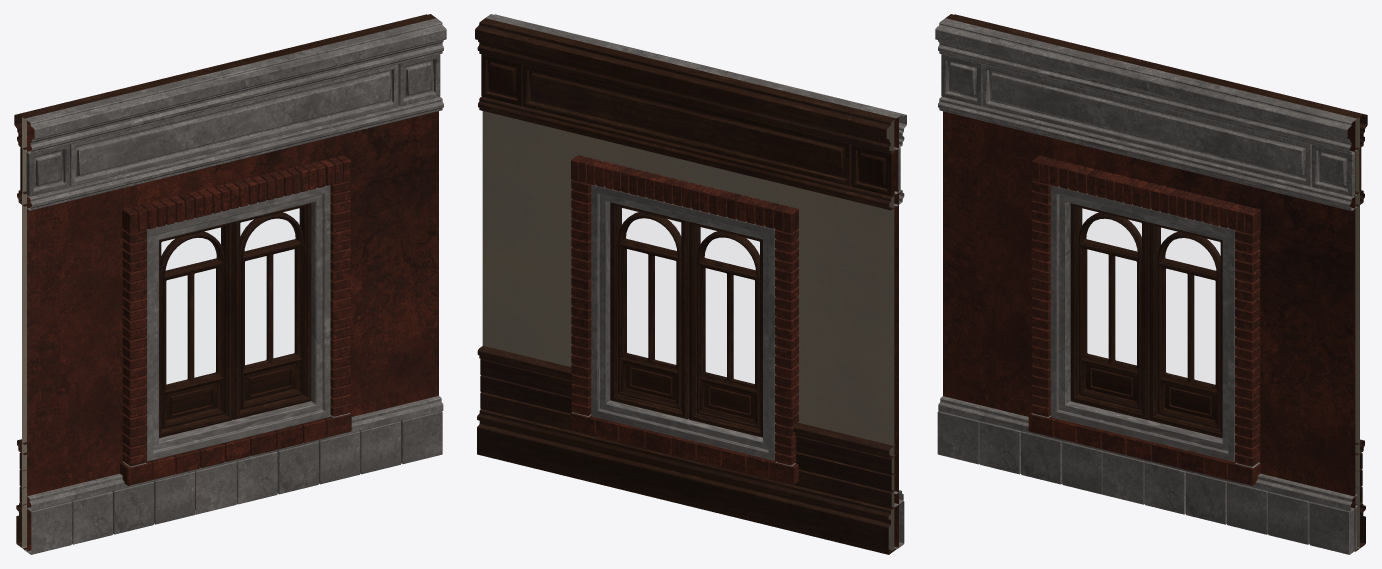
Rendered from SK6 WINDOW 2.fbx.
3 views of the same model, side by side, from view 1: azimuth 30°, elevation 25°; view 2: azimuth 150°, elevation 25°; view 3: azimuth 330°, elevation 25° (orthographic).
Visible parts, largest first — view 1: SK6 WINDOW 2; view 2: SK6 WINDOW 2; view 3: SK6 WINDOW 2.
Part boxes in pixels (x1,y1,x2,y2): SK6 WINDOW 2: [14, 14, 446, 554]; SK6 WINDOW 2: [475, 14, 906, 554]; SK6 WINDOW 2: [935, 14, 1367, 554].
Size of the model in its own units: 400 by 400 by 34.17.
